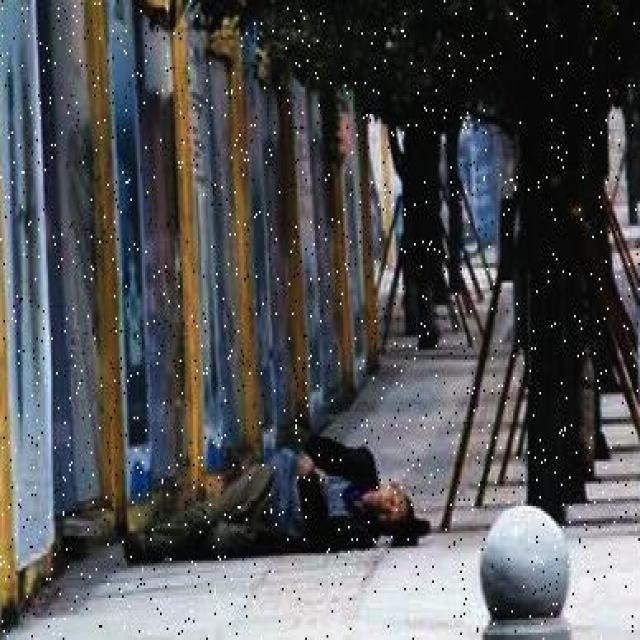fall: (120, 432, 412, 548)
